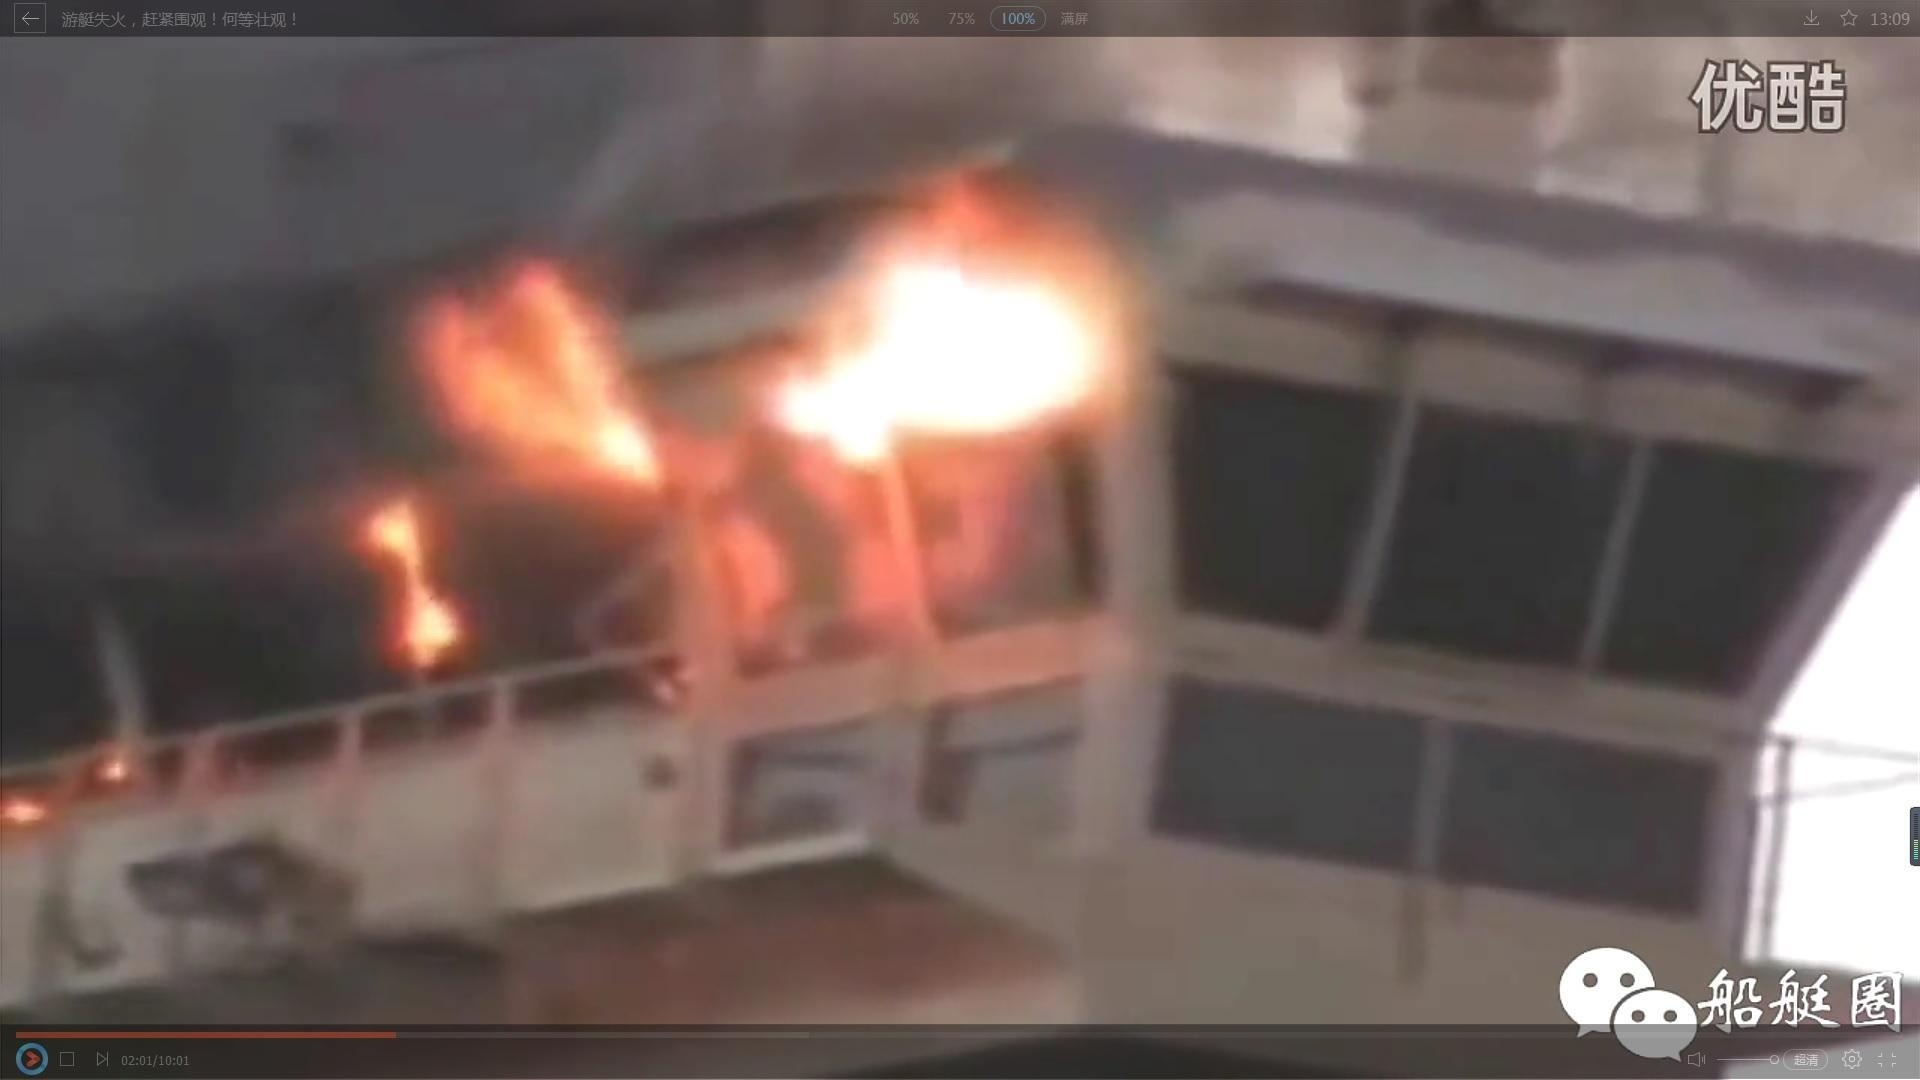fire: (781, 241, 1100, 451), (429, 272, 659, 477), (364, 502, 463, 662)
